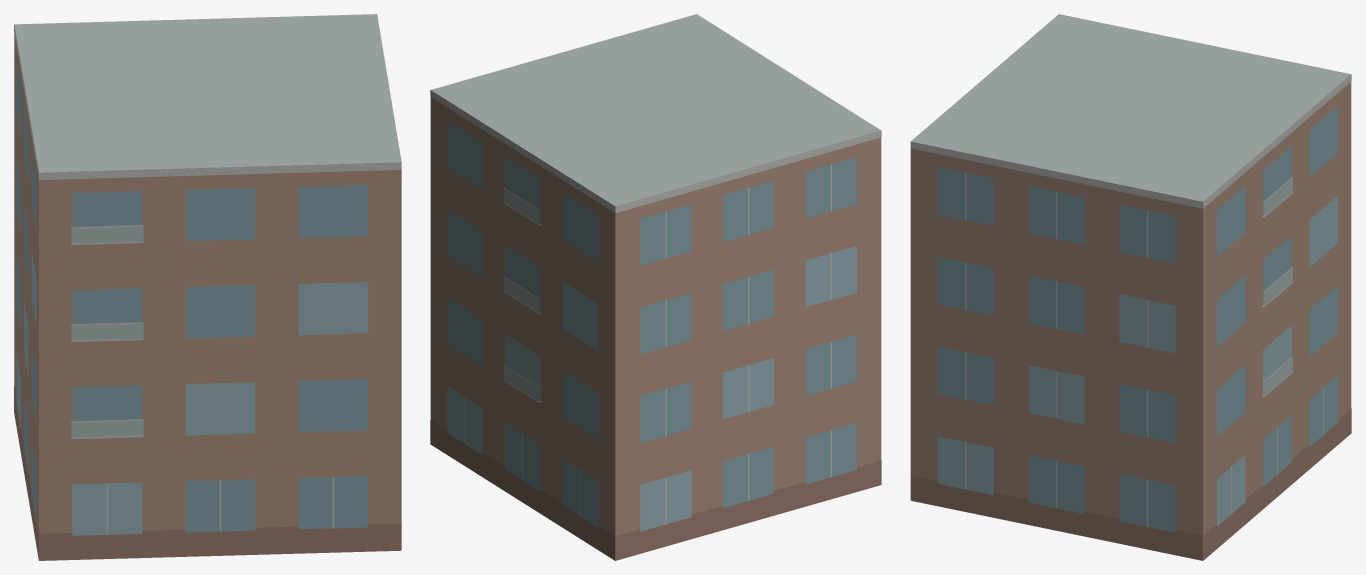
Rendered from survey-upis-33029182.glb.
3 views of the same model, side by side, from view 1: azimuth 30°, elevation 25°; view 2: azimuth 150°, elevation 25°; view 3: azimuth 270°, elevation 25° (orthographic). The views are drawn at different scales.
Visible parts, largest first — view 1: survey-upis-33029182.tmp; view 2: survey-upis-33029182.tmp; view 3: survey-upis-33029182.tmp.
Part boxes in pixels (x1,y1,x2,y2): survey-upis-33029182.tmp: (14,14,401,560); survey-upis-33029182.tmp: (430,14,881,560); survey-upis-33029182.tmp: (910,14,1351,560).
Size of the model in its own units: 14.14 by 12.6 by 14.03.
